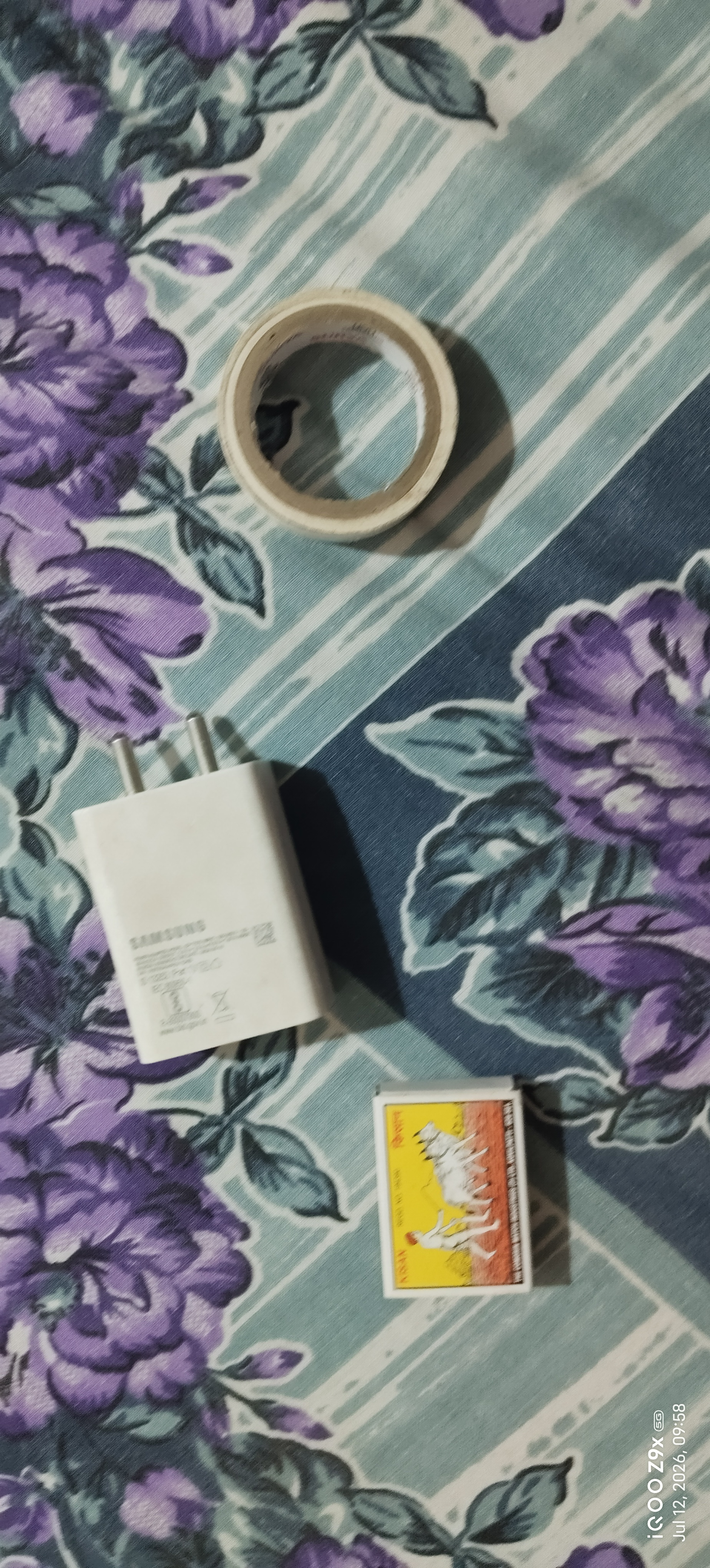charger: (63, 695, 350, 1084)
matchbox: (357, 1062, 562, 1309)
tape_roll: (188, 277, 484, 565)
